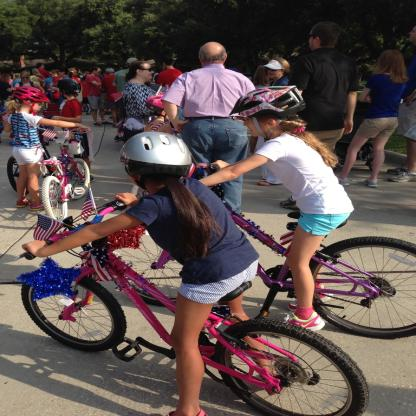Helmet: (119, 129, 203, 187), (220, 82, 304, 136), (16, 86, 53, 113)
